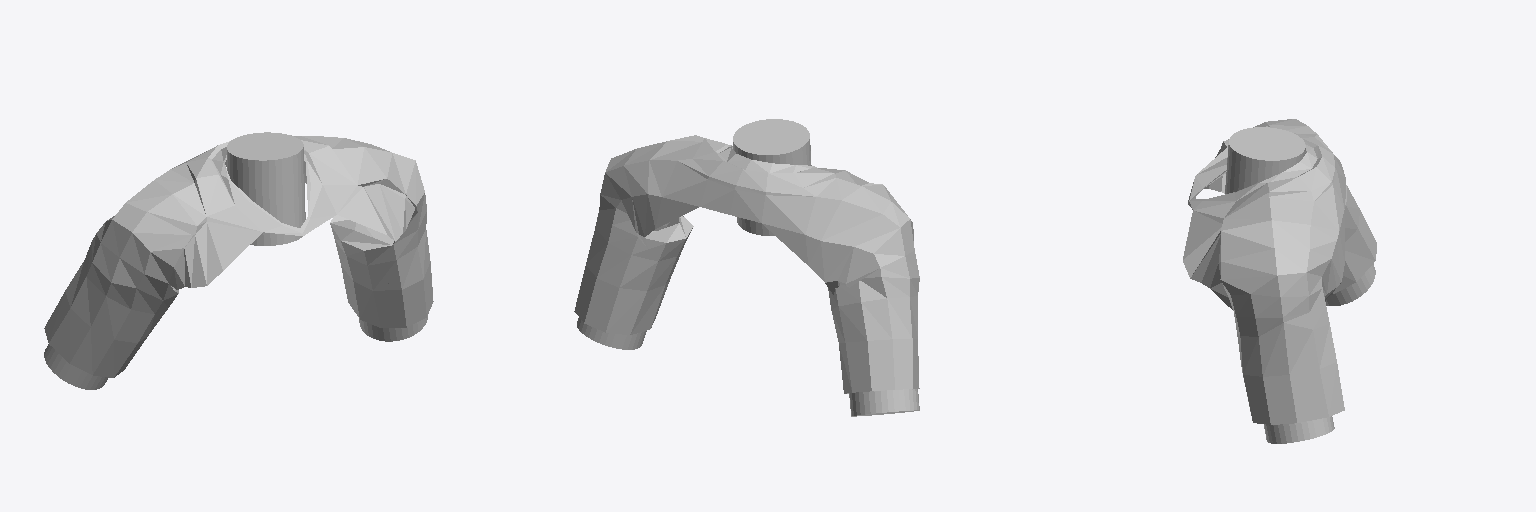
The picture shows the model from 3 angles: view 1: azimuth 30°, elevation 25°; view 2: azimuth 150°, elevation 25°; view 3: azimuth 270°, elevation 25°; orthographic projection.
Parts seen in each view (by area): view 1: male01_mesh1_002_mesh1_geometry_male_02_1noCullingID_male_02_1no, group3_group2_pasted__pCylinder1, group3_group2_pCylinder1, group3_group2_pasted__pasted__pCylinder1; view 2: male01_mesh1_002_mesh1_geometry_male_02_1noCullingID_male_02_1no, group3_group2_pasted__pCylinder1, group3_group2_pCylinder1, group3_group2_pasted__pasted__pCylinder1; view 3: male01_mesh1_002_mesh1_geometry_male_02_1noCullingID_male_02_1no, group3_group2_pasted__pCylinder1, group3_group2_pasted__pasted__pCylinder1, group3_group2_pCylinder1.
Part boxes in pixels (x1,y1,x2,y2): male01_mesh1_002_mesh1_geometry_male_02_1noCullingID_male_02_1no: (44,135,433,377); group3_group2_pasted__pCylinder1: (227,132,305,245); group3_group2_pCylinder1: (44,344,107,389); group3_group2_pasted__pasted__pCylinder1: (359,226,427,341); male01_mesh1_002_mesh1_geometry_male_02_1noCullingID_male_02_1no: (574,135,919,393); group3_group2_pasted__pCylinder1: (733,119,811,235); group3_group2_pCylinder1: (849,389,919,416); group3_group2_pasted__pasted__pCylinder1: (577,231,655,349); male01_mesh1_002_mesh1_geometry_male_02_1noCullingID_male_02_1no: (1183,119,1376,424); group3_group2_pasted__pCylinder1: (1225,127,1305,193); group3_group2_pasted__pasted__pCylinder1: (1264,416,1334,443); group3_group2_pCylinder1: (1325,264,1375,305).
Bounding box in the file's own units: 29.48 × 18.36 × 14.01.